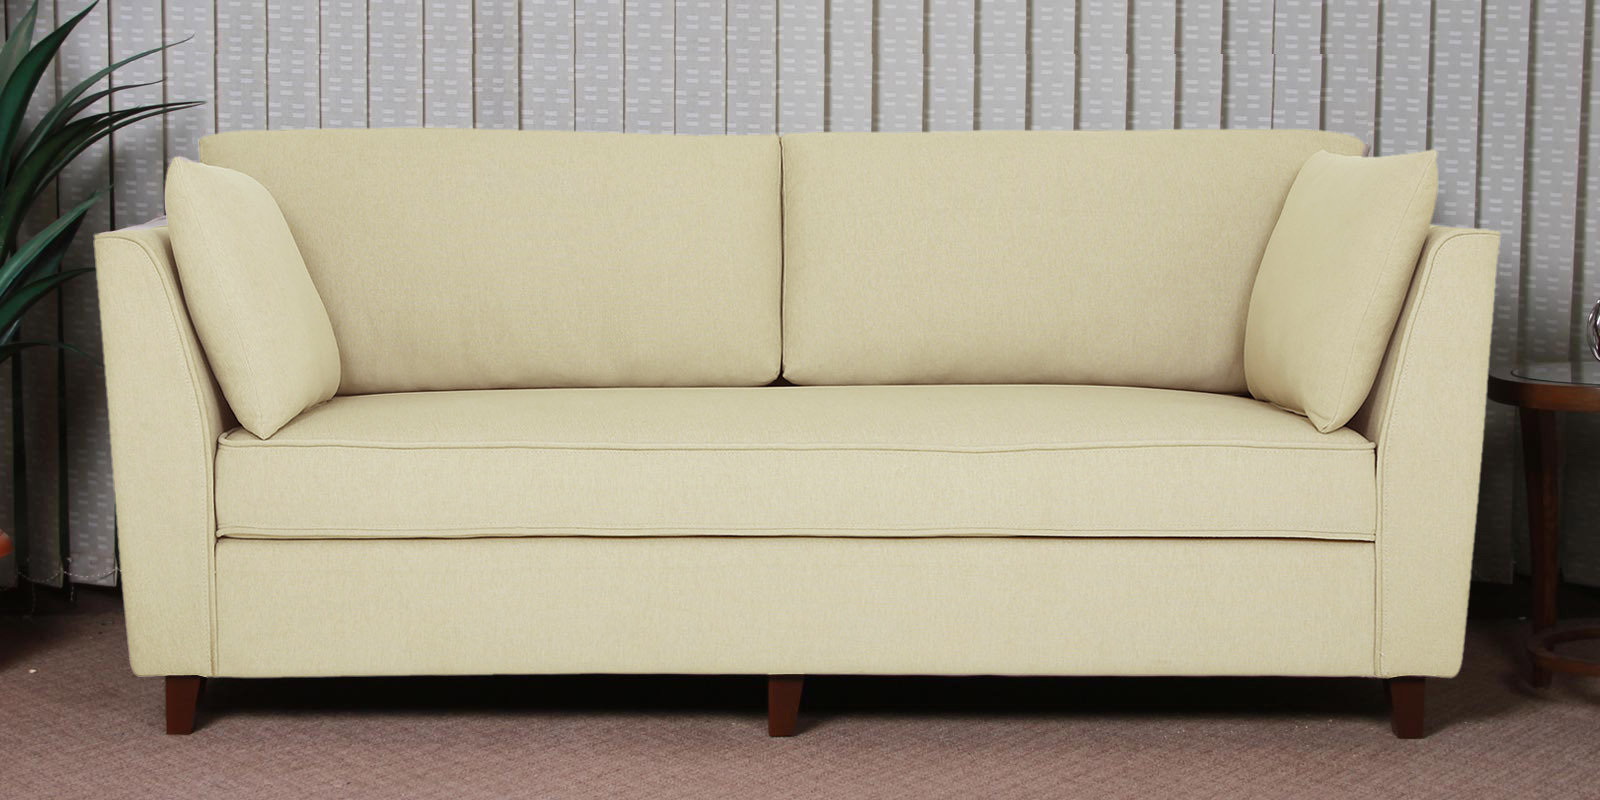Miranda Three Seater Sofa in Beige Colour by CasaCraft: (92, 128, 1500, 739)
